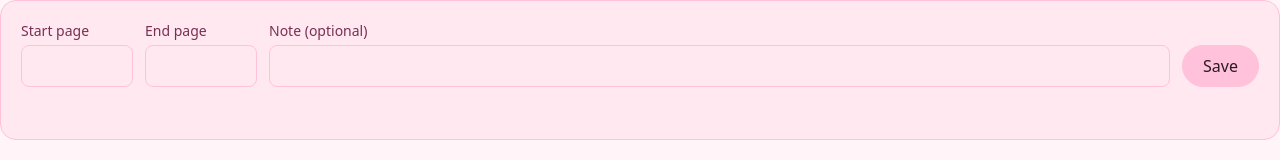
Test: the live preview line › renders 'that's 29 pages' for 43 to 71
Type "43" into the field labelled "Start page".
click(77, 66); type("43")  # box [21,45,133,87]
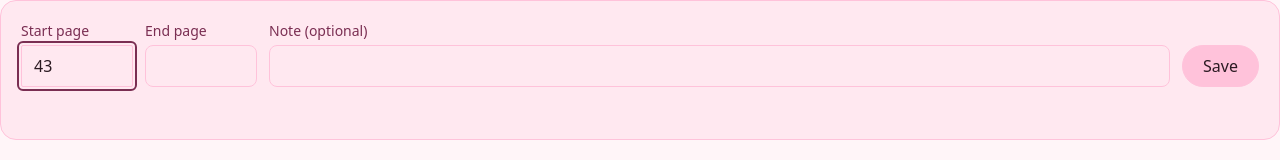
Type "71" into the field labelled "End page".
click(201, 66); type("71")  # box [145,45,257,87]
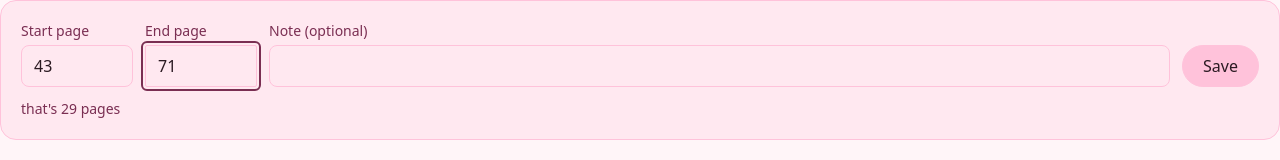
Check: the text "that's 29 pages" is shown, box [21,99,120,118]
